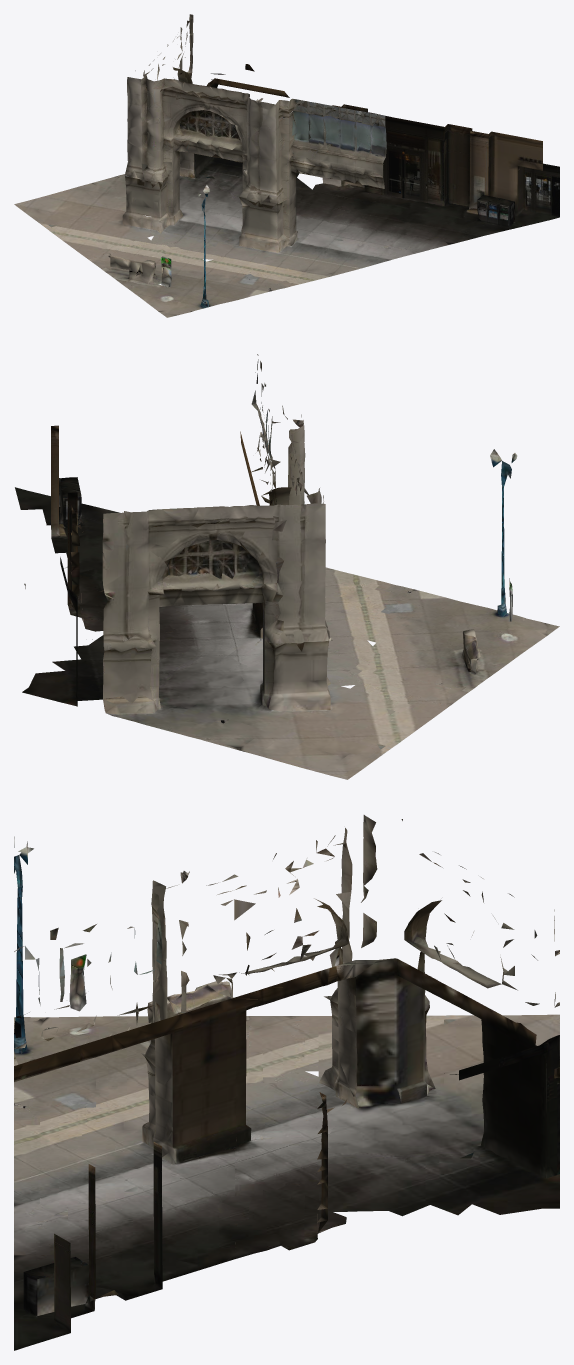
3 renders of one model, top to bottom at view 1: azimuth 30°, elevation 25°; view 2: azimuth 150°, elevation 25°; view 3: azimuth 270°, elevation 25°, orthographic. The views are drawn at different scales.
Bounding box in the file's own units: 24.39 × 8.84 × 16.46.
Materials: 1 (1 with a texture image).
